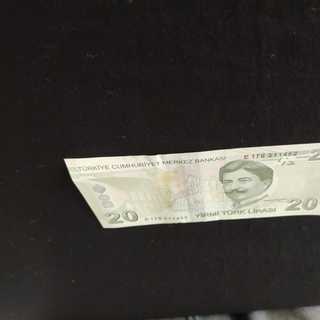20TLBack: (63, 140, 320, 229)
